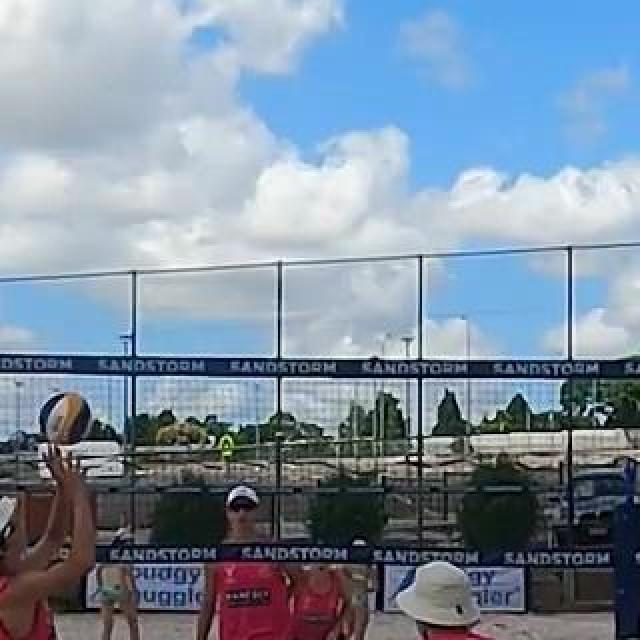volleyball: (39, 392, 93, 446)
